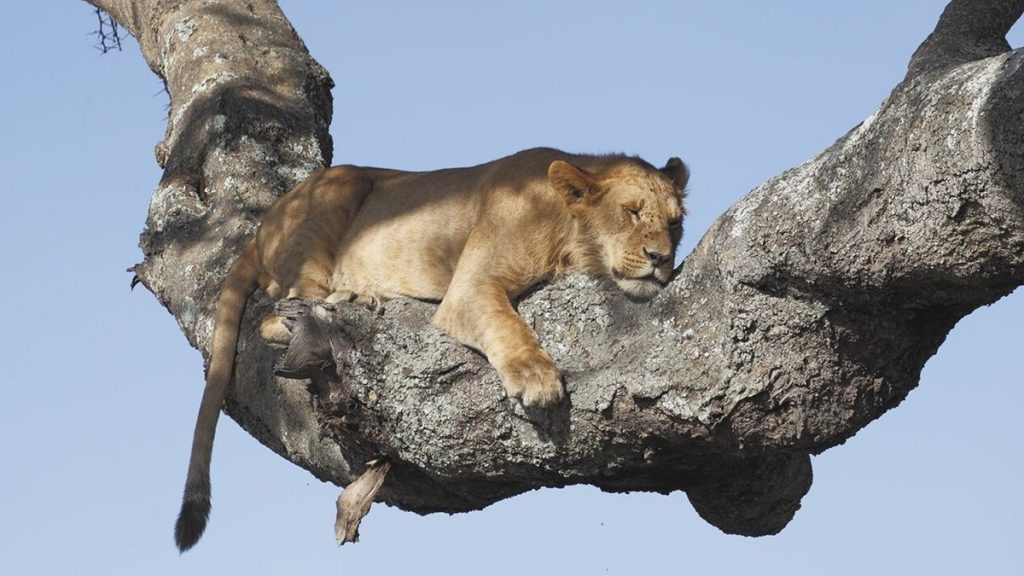lion: (158, 143, 695, 546)
